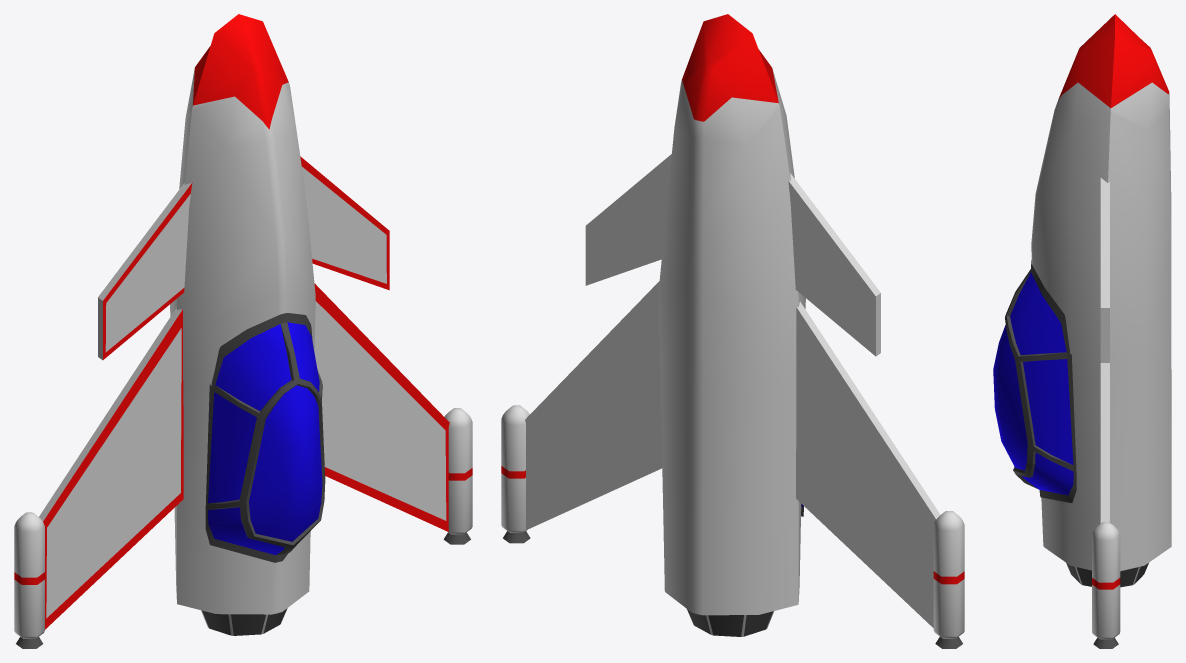
The model's file is Starfighter.fbx.
3 renders of one model, left to right at view 1: azimuth 30°, elevation 25°; view 2: azimuth 150°, elevation 25°; view 3: azimuth 270°, elevation 25°, orthographic. The views are drawn at different scales.
Visible parts, largest first — view 1: Starfighter; view 2: Starfighter; view 3: Starfighter.
Part boxes in pixels (bbox=[...]): Starfighter: bbox=[14, 14, 472, 648]; Starfighter: bbox=[501, 14, 964, 648]; Starfighter: bbox=[993, 14, 1171, 648].
Size of the model in its own units: 60.28 by 77.04 by 22.26.
